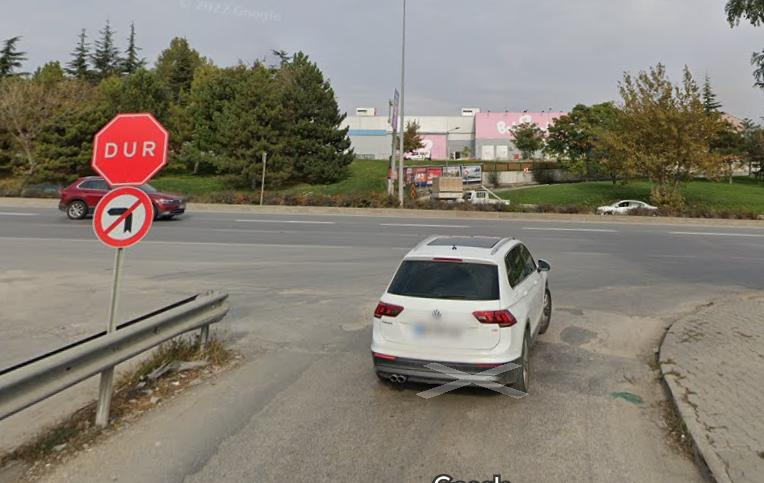leftturnsareforbidden: (92, 186, 154, 247)
stop: (90, 114, 167, 185)
